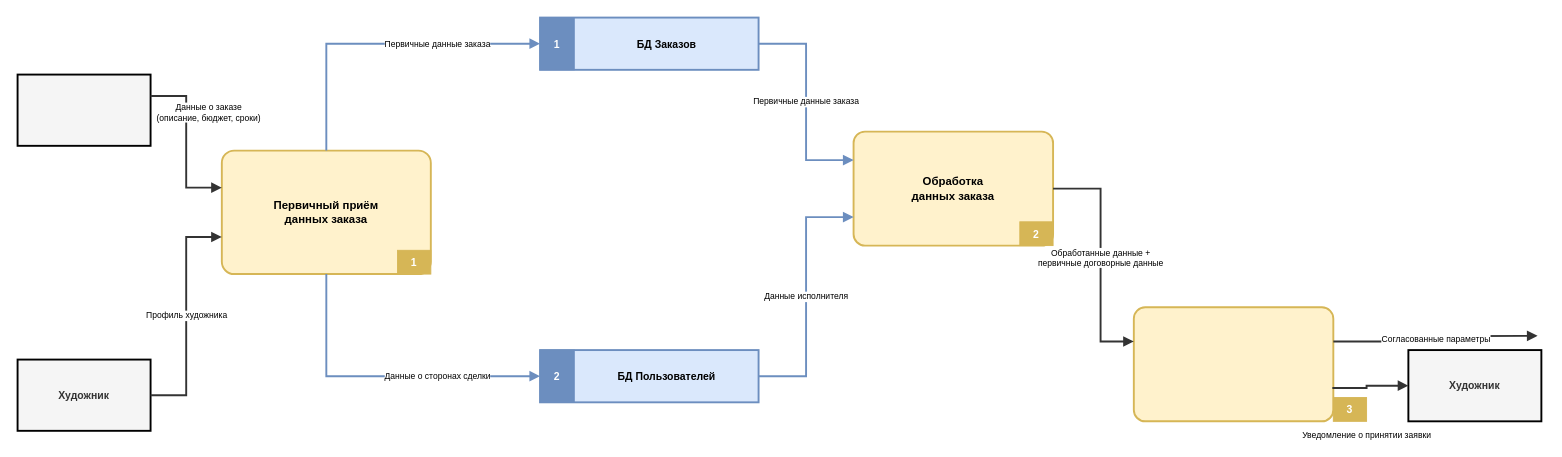
The diagram is 1562 pixels wide and 457 high, and some of its shapes have lost their labels. The centre of each missing label's shape, as x and y in pixels:
Агрегация параметров заказа: point (1233, 364)
Заказчик: point (83, 109)
